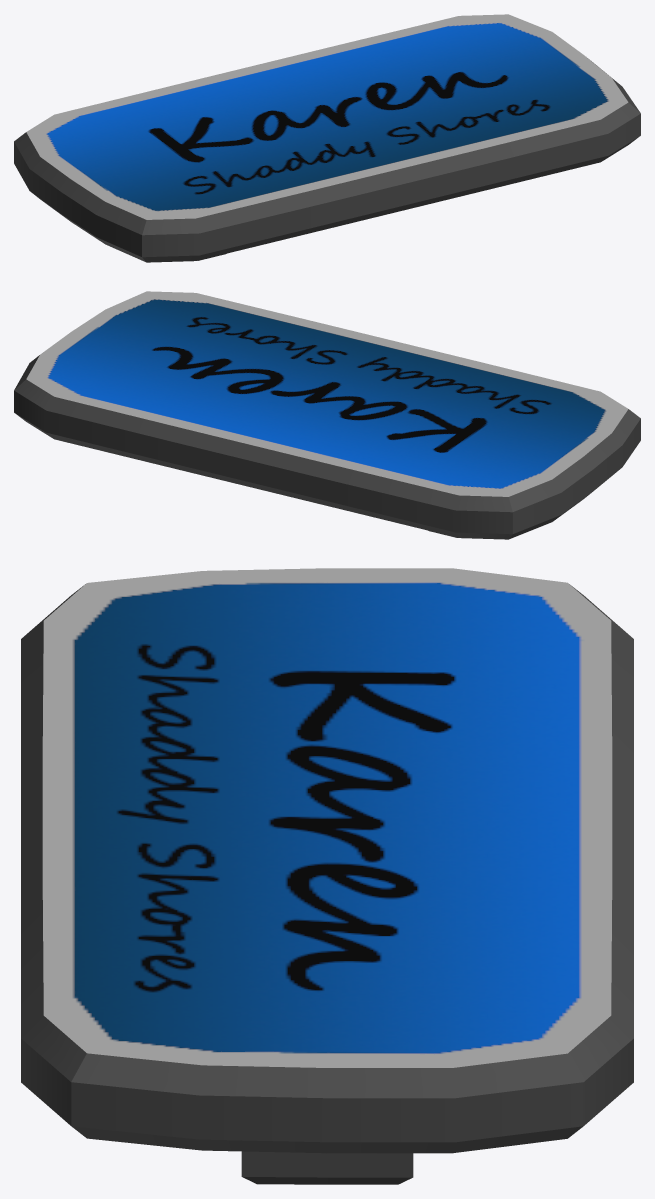
Rendered from Name_Tag.fbx.
3 views of the same model, one above another, from view 1: azimuth 30°, elevation 25°; view 2: azimuth 150°, elevation 25°; view 3: azimuth 270°, elevation 25° (orthographic). The views are drawn at different scales.
Visible parts, largest first — view 1: pCube26; view 2: pCube26; view 3: pCube26.
Boxes of the visible parts, <box> form: pCube26: <box>14,14,640,262</box>; pCube26: <box>14,291,640,539</box>; pCube26: <box>21,568,633,1184</box>.
Size of the model in its own units: 161 by 28.2 by 80.3.
